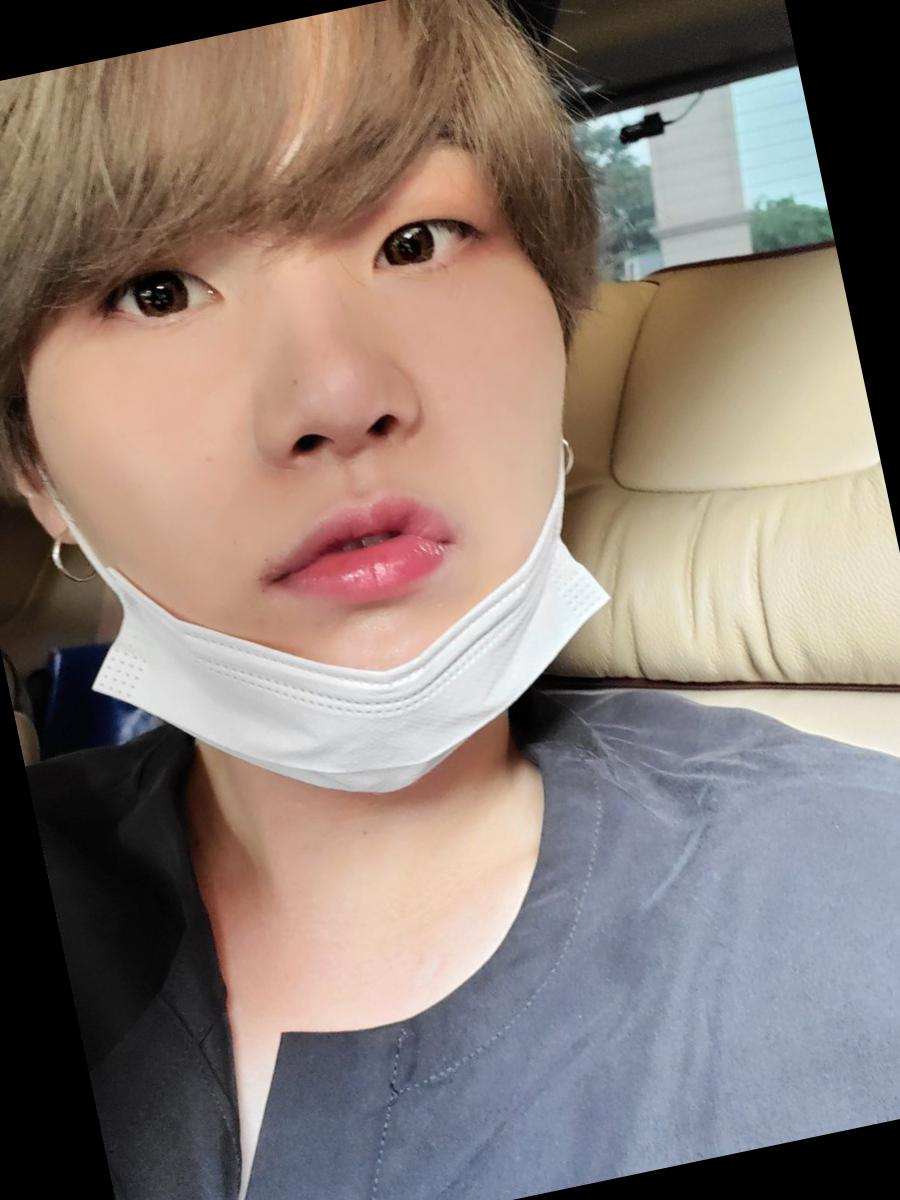mask_weared_incorrect: (60, 185, 646, 809)
